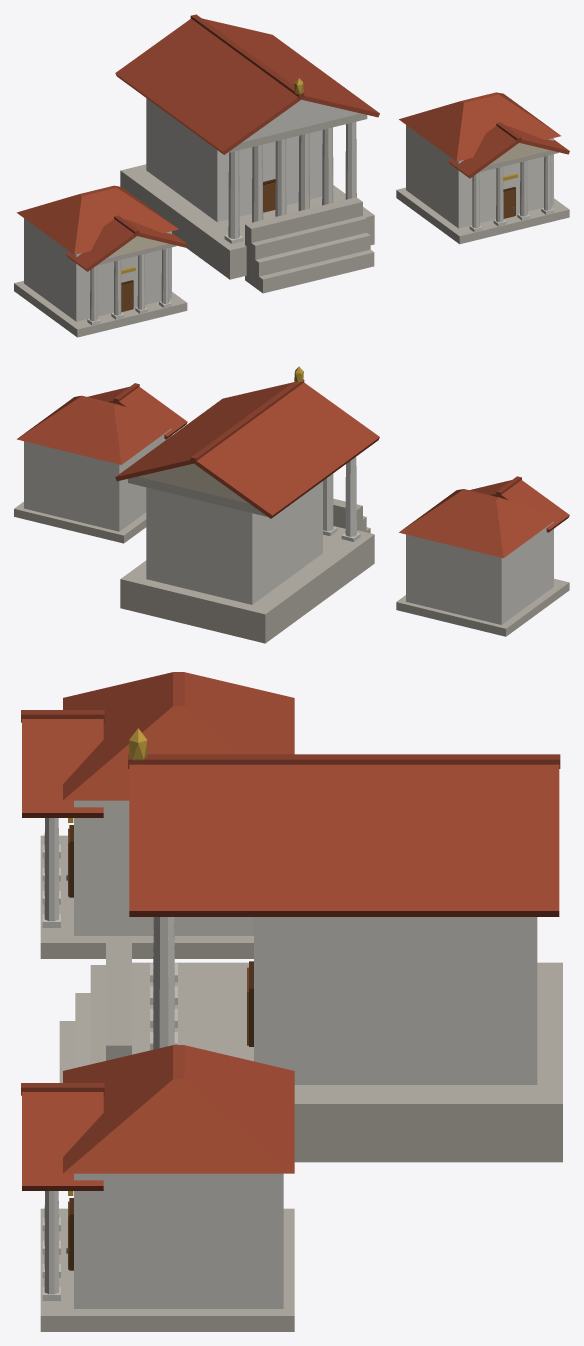
Rendered from angel_court_broken.glb.
3 views of the same model, one above another, from view 1: azimuth 30°, elevation 25°; view 2: azimuth 150°, elevation 25°; view 3: azimuth 270°, elevation 25° (orthographic). The views are drawn at different scales.
Parts seen in each view (by area): view 1: angel_court_piece6, angel_court_piece10, angel_court_piece1, angel_court_piece0, angel_court_piece2, angel_court_piece9, angel_court_piece4, angel_court_piece7, angel_court_piece13, angel_court_piece5, angel_court_piece3, angel_court_piece12 (+1 smaller); view 2: angel_court_piece10, angel_court_piece6, angel_court_piece5, angel_court_piece1, angel_court_piece4, angel_court_piece9, angel_court_piece2, angel_court_piece13, angel_court_piece7, angel_court_piece8, angel_court_piece11, angel_court_piece3; view 3: angel_court_piece5, angel_court_piece6, angel_court_piece13, angel_court_piece10, angel_court_piece4, angel_court_piece2, angel_court_piece7, angel_court_piece0, angel_court_piece11, angel_court_piece12, angel_court_piece1, angel_court_piece3 (+1 smaller).
Boxes of the visible parts, x1,y1,x2,y2 form: angel_court_piece6: (377, 92, 569, 244); angel_court_piece10: (14, 185, 147, 337); angel_court_piece1: (120, 98, 286, 293); angel_court_piece0: (262, 127, 425, 290); angel_court_piece2: (164, 39, 331, 273); angel_court_piece9: (145, 15, 229, 143); angel_court_piece4: (120, 14, 319, 229); angel_court_piece7: (96, 127, 211, 332); angel_court_piece13: (263, 59, 424, 198); angel_court_piece5: (209, 20, 339, 205); angel_court_piece3: (172, 40, 253, 313); angel_court_piece12: (142, 256, 180, 321); angel_court_piece10: (408, 476, 569, 636); angel_court_piece6: (14, 383, 224, 532); angel_court_piece5: (115, 432, 225, 633); angel_court_piece1: (209, 486, 402, 614); angel_court_piece4: (179, 423, 327, 643); angel_court_piece9: (193, 430, 357, 526); angel_court_piece2: (220, 366, 473, 515); angel_court_piece13: (93, 387, 270, 525); angel_court_piece7: (346, 445, 507, 619); angel_court_piece8: (238, 490, 422, 548); angel_court_piece11: (80, 507, 136, 543); angel_court_piece3: (215, 435, 362, 525); angel_court_piece5: (254, 788, 562, 1162); angel_court_piece6: (21, 906, 294, 1331); angel_court_piece13: (129, 789, 350, 1086); angel_court_piece10: (21, 672, 294, 863); angel_court_piece4: (174, 758, 562, 1061); angel_court_piece2: (22, 728, 425, 949); angel_court_piece7: (22, 735, 253, 958); angel_court_piece0: (59, 917, 285, 1082); angel_court_piece11: (283, 1100, 445, 1248); angel_court_piece12: (40, 845, 188, 937); angel_court_piece1: (59, 924, 562, 1036); angel_court_piece3: (40, 759, 455, 958).
Bounding box in the file's own units: 6.18 × 2.25 × 2.95.
